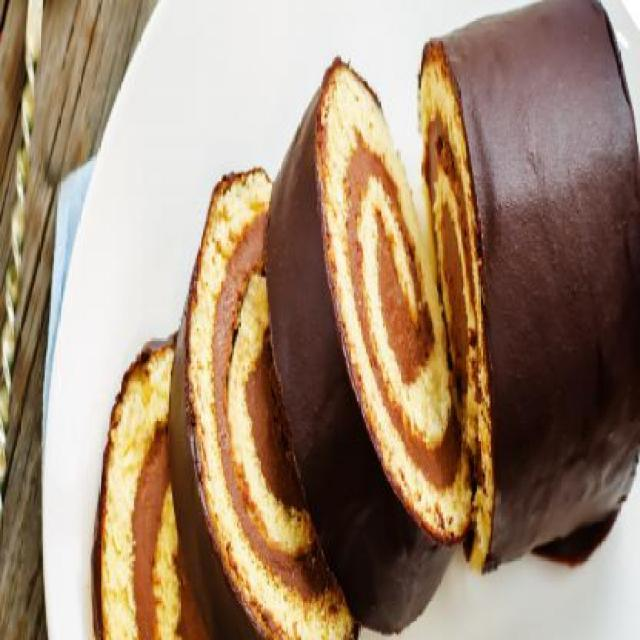Merendine packaged: (91, 6, 636, 640)
